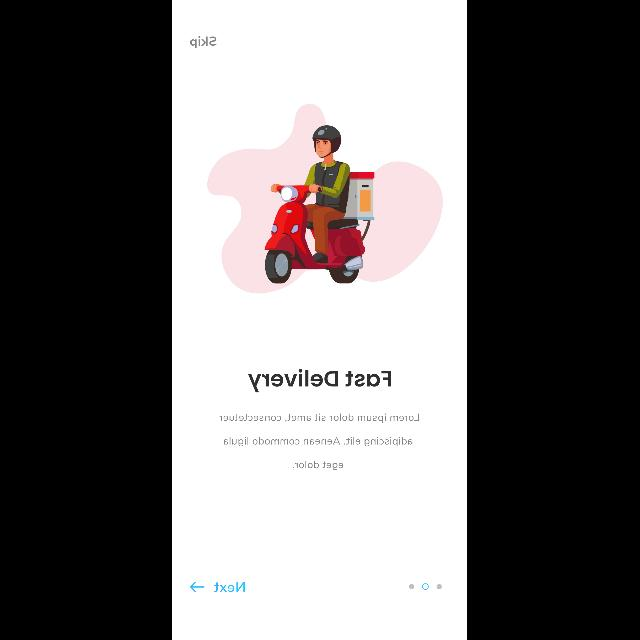icon: (191, 582, 205, 592)
image: (207, 104, 443, 294)
pageindicator: (410, 584, 442, 590)
text: (220, 414, 420, 471), (248, 369, 392, 393), (214, 582, 246, 592), (191, 36, 217, 48)
